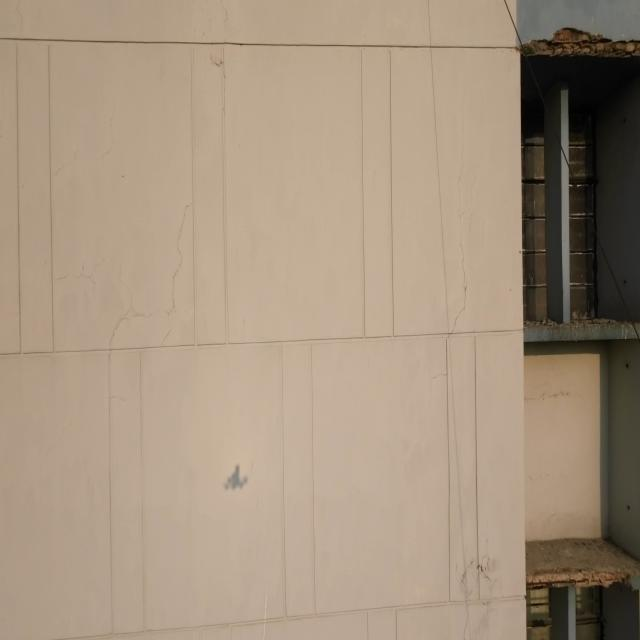Crack: (446, 76, 466, 332), (162, 203, 194, 346), (451, 562, 497, 639), (98, 355, 111, 577), (115, 297, 171, 329), (54, 271, 95, 300)
Spalling: (526, 538, 640, 587), (520, 28, 640, 57), (526, 546, 591, 574)
